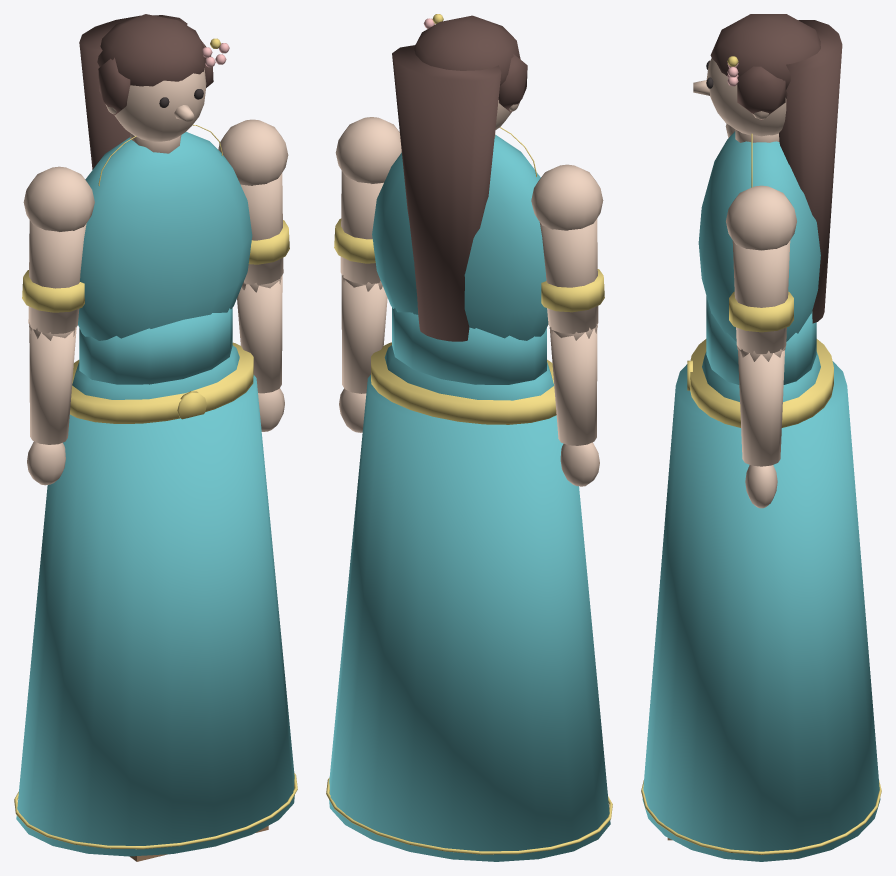
Rendered from calipso.glb.
The picture shows the model from 3 angles, left to right: view 1: azimuth 30°, elevation 25°; view 2: azimuth 150°, elevation 25°; view 3: azimuth 270°, elevation 25°; orthographic projection.
Parts seen in each view (by area): view 1: pelvis, torso, head, arm_R, arm_L, forearm_R, forearm_L; view 2: pelvis, head, torso, arm_R, arm_L, forearm_R, forearm_L; view 3: pelvis, head, torso, arm_L, forearm_L.
Boxes of the visible parts, x1,y1,x2,y2 form: pelvis: (14,342,297,856); torso: (78,124,252,384); head: (79,14,229,169); arm_R: (22,166,94,334); arm_L: (218,119,289,285); forearm_R: (27,322,76,485); forearm_L: (237,275,284,431); pelvis: (326,342,612,861); head: (392,14,527,341); torso: (372,127,548,384); arm_R: (531,164,604,333); arm_L: (334,117,401,284); forearm_R: (549,323,599,486); forearm_L: (339,274,387,432); pelvis: (641,339,881,861); head: (693,14,842,323); torso: (698,131,820,384); arm_L: (726,185,796,354); forearm_L: (737,346,785,508).
Bounding box in the file's own units: 0.6298 × 1.83 × 0.506.
